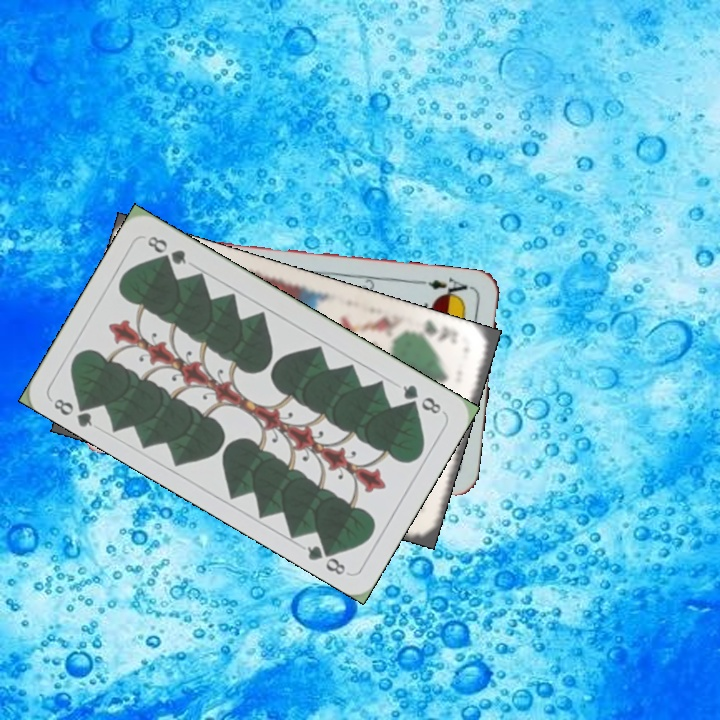EA: (416, 273, 475, 302)
G8: (398, 380, 444, 417), (49, 394, 96, 430)
GK: (411, 316, 461, 347)
